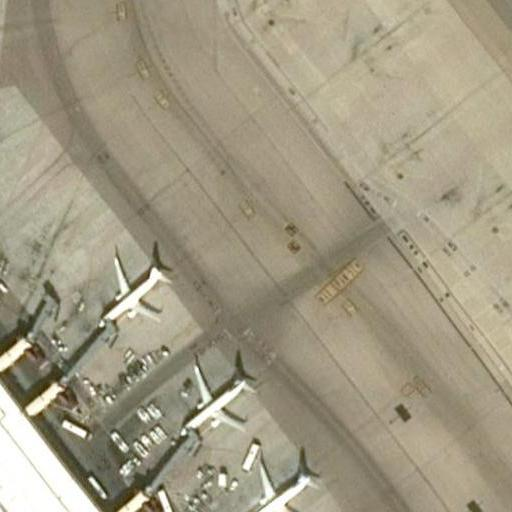Aircraft: (176, 359, 261, 432), (93, 253, 171, 324), (236, 450, 319, 512)
